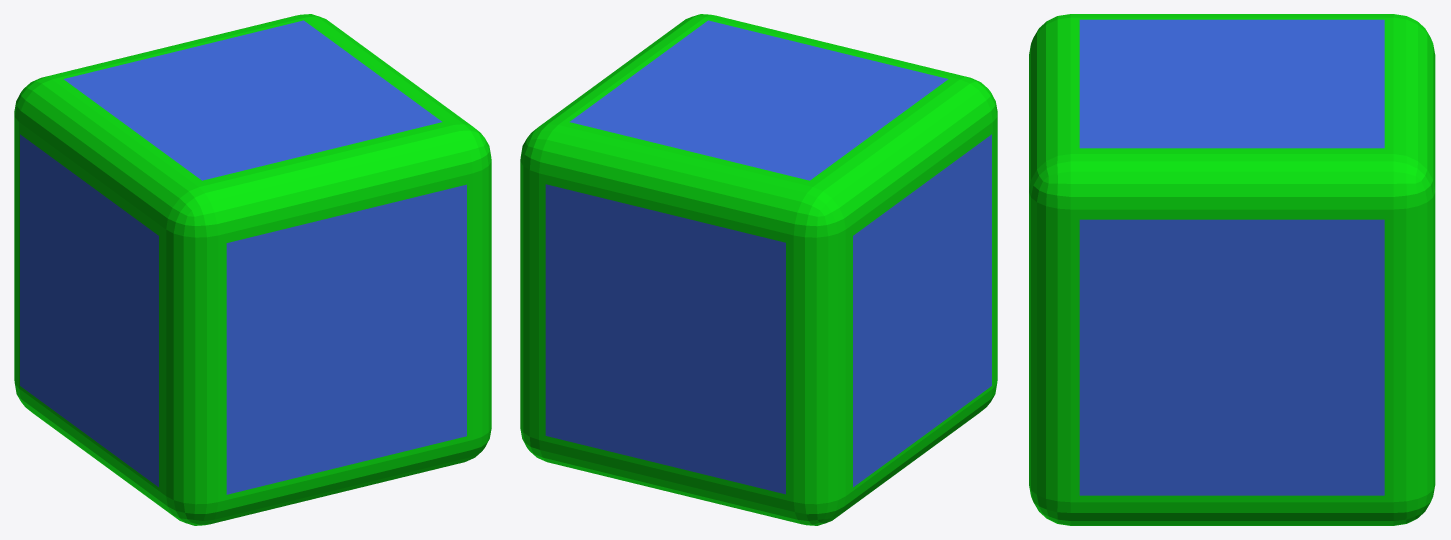
Rendered from d6_7mats.fbx.
3 views of the same model, side by side, from view 1: azimuth 30°, elevation 25°; view 2: azimuth 150°, elevation 25°; view 3: azimuth 270°, elevation 25° (orthographic). The views are drawn at different scales.
Visible parts, largest first — view 1: Base_cube, Plane.003, Plane.005, Plane; view 2: Base_cube, Plane.002, Plane.005, Plane; view 3: Plane.001, Base_cube, Plane.
Part boxes in pixels (x1,y1,x2,y2): Base_cube: (14, 14, 491, 525); Plane.003: (226, 184, 466, 494); Plane.005: (20, 134, 158, 487); Plane: (63, 20, 441, 180); Base_cube: (520, 14, 997, 525); Plane.002: (545, 184, 785, 494); Plane.005: (853, 134, 991, 487); Plane: (570, 20, 948, 180); Plane.001: (1079, 219, 1384, 495); Base_cube: (1029, 14, 1435, 525); Plane: (1079, 19, 1384, 148).
Bounding box in the file's own units: 2026 × 2023 × 2020.
